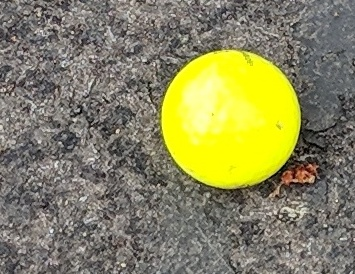ball: (162, 51, 302, 190)
